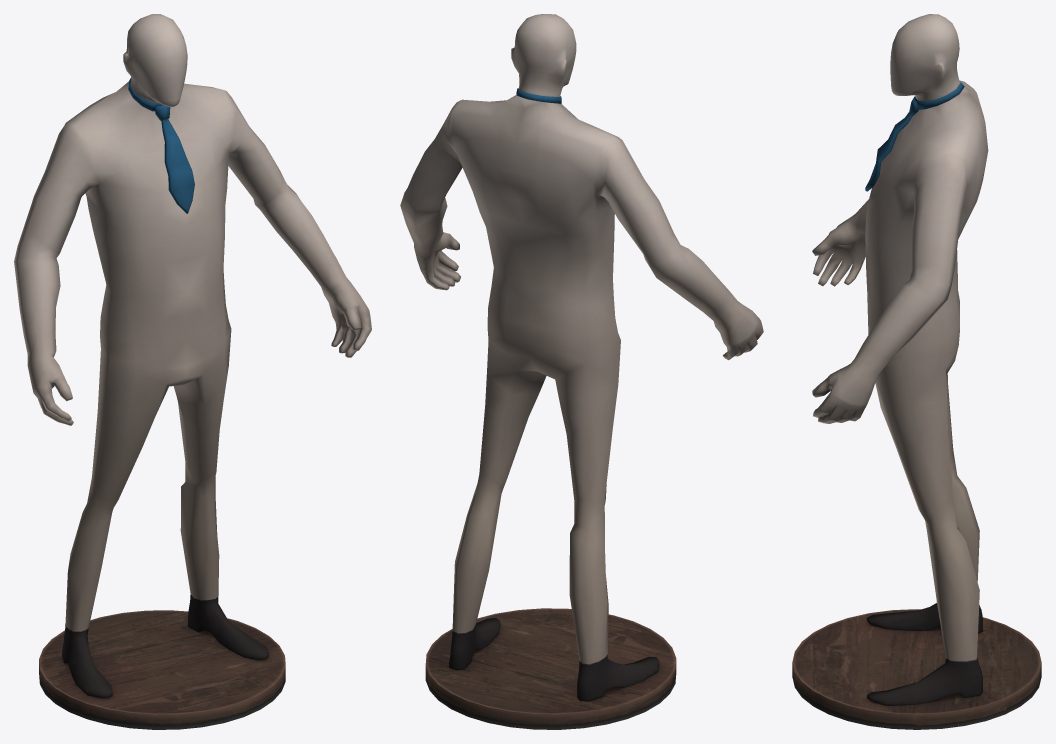
The model's file is mannequin_male_necktie.glb.
The picture shows the model from 3 angles, left to right: view 1: azimuth 30°, elevation 25°; view 2: azimuth 150°, elevation 25°; view 3: azimuth 270°, elevation 25°; orthographic projection.
Parts seen in each view (by area): view 1: mannequin_male_necktie; view 2: mannequin_male_necktie; view 3: mannequin_male_necktie.
Boxes of the visible parts, bbox=[...] form: mannequin_male_necktie: bbox=[14, 14, 371, 729]; mannequin_male_necktie: bbox=[400, 14, 763, 729]; mannequin_male_necktie: bbox=[792, 14, 1041, 729].
Size of the model in its own units: 0.8449 by 1.62 by 0.5518.
3 materials, 3 textured.
